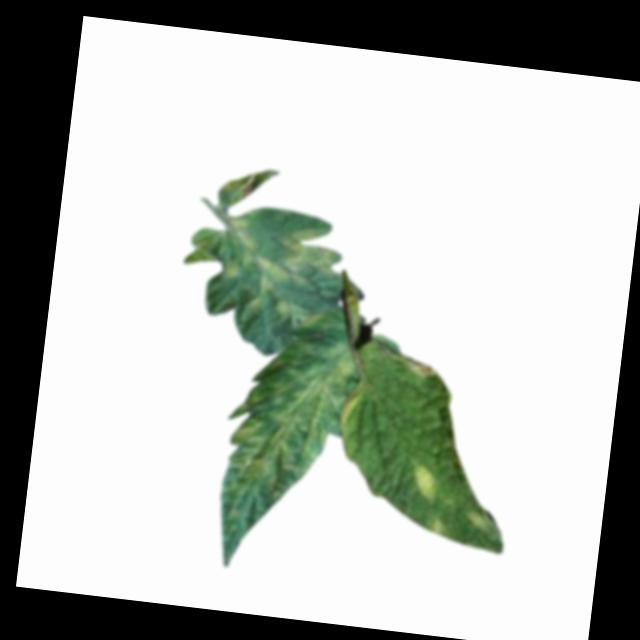Leaf_Mold: (208, 324, 361, 580), (219, 217, 343, 334), (384, 352, 439, 378), (405, 463, 438, 498), (463, 507, 491, 538)
